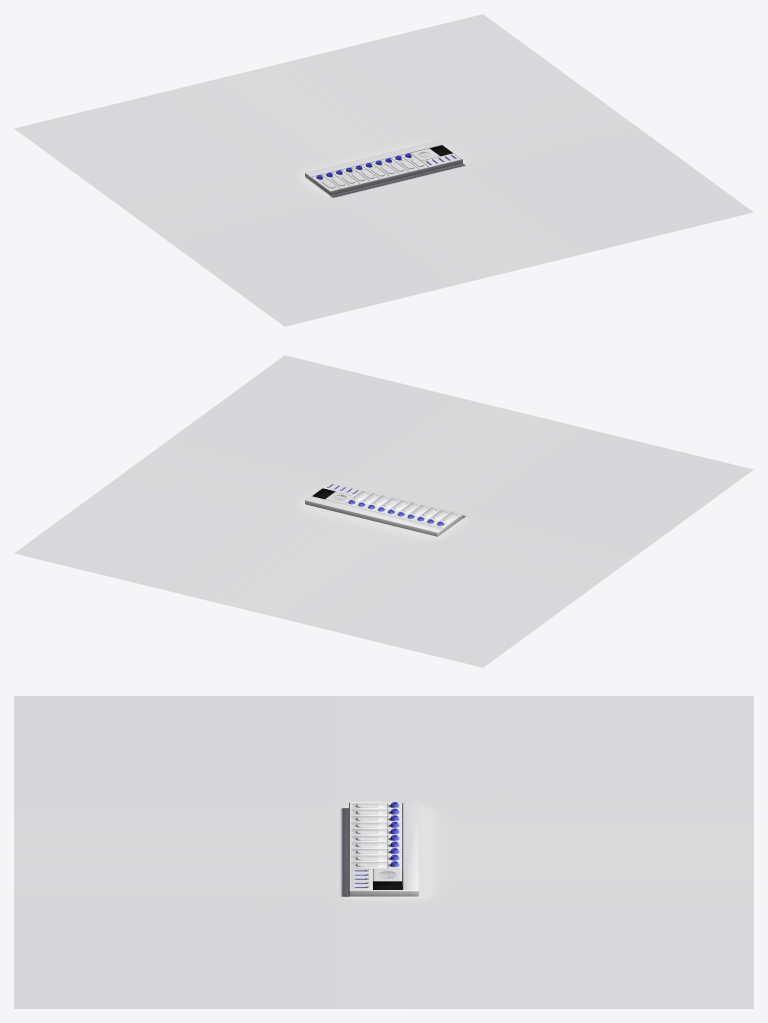
The model's file is device_gltf_cleanup.gltf.
The picture shows the model from 3 angles, top to bottom: view 1: azimuth 30°, elevation 25°; view 2: azimuth 150°, elevation 25°; view 3: azimuth 270°, elevation 25°; orthographic projection. The views are drawn at different scales.
Parts seen in each view (by area): view 1: main; view 2: main; view 3: main.
Boxes of the visible parts, x1=… form: main: x1=14, y1=14, x2=753, y2=326; main: x1=14, y1=355, x2=753, y2=667; main: x1=14, y1=696, x2=753, y2=1008.
Bounding box in the file's own units: 21.16 × 0.2997 × 21.16.
Materials: 2 (1 with a texture image).
